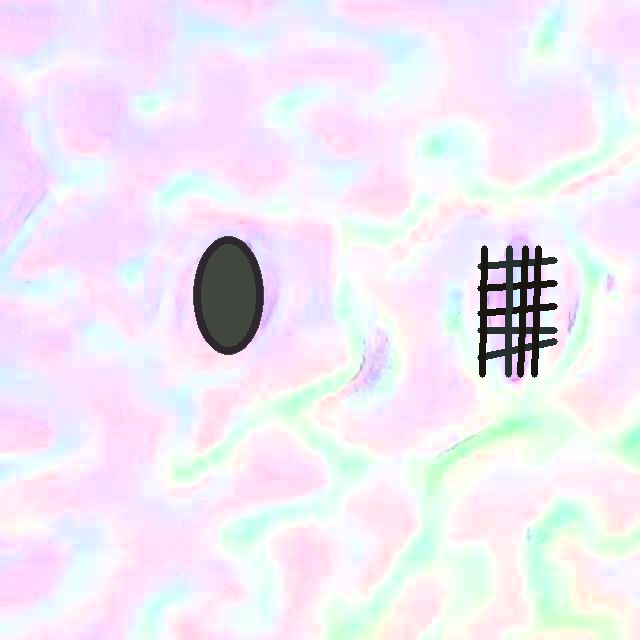close: (193, 236, 263, 354)
open: (478, 246, 556, 376)
